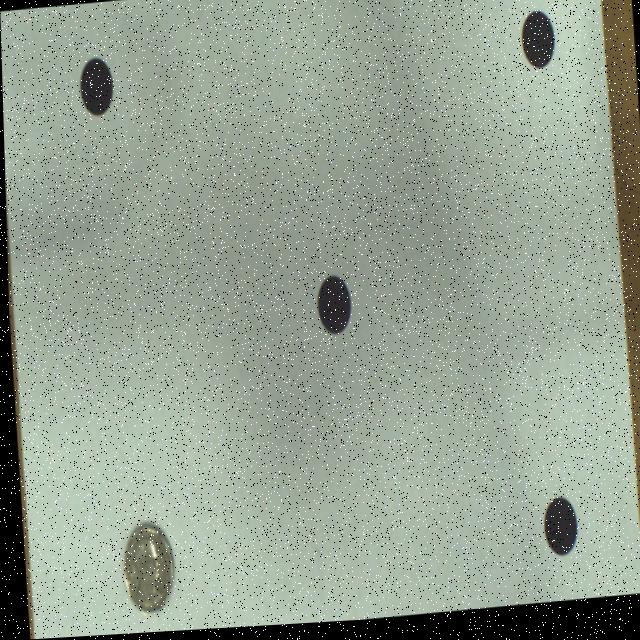head5bath: (120, 525, 169, 611)
space: (521, 18, 554, 74)
